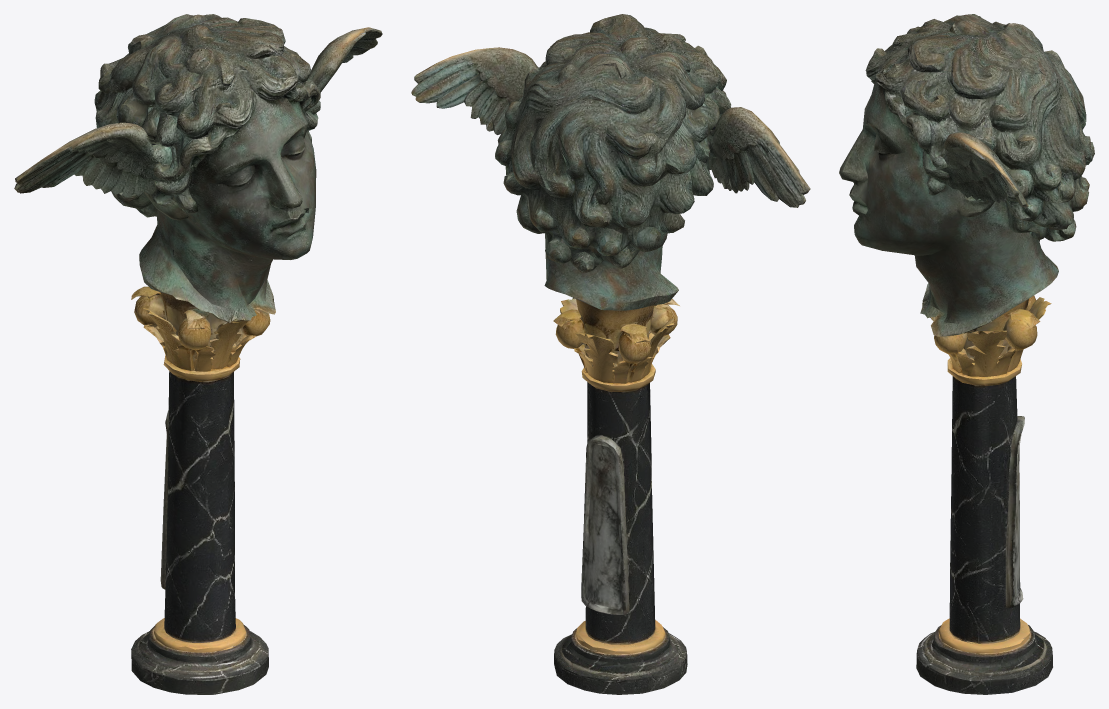
File: P7_hypnos_head_game.glb
3 views of the same model, side by side, from view 1: azimuth 30°, elevation 25°; view 2: azimuth 150°, elevation 25°; view 3: azimuth 270°, elevation 25° (orthographic). The views are drawn at different scales.
Parts seen in each view (by area): view 1: P7_hypnos_head; view 2: P7_hypnos_head; view 3: P7_hypnos_head.
Part boxes in pixels (x1,y1,x2,y2): P7_hypnos_head: [14, 14, 382, 694]; P7_hypnos_head: [411, 14, 810, 694]; P7_hypnos_head: [839, 14, 1094, 694].
Size of the model in its own units: 1 by 1.6 by 0.5798.
Materials: 1 (1 with a texture image).
